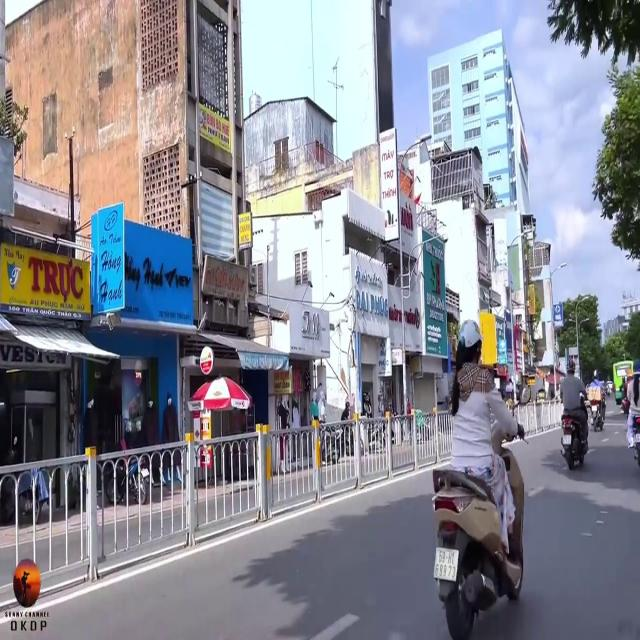bien_trang: (433, 542, 459, 585)
